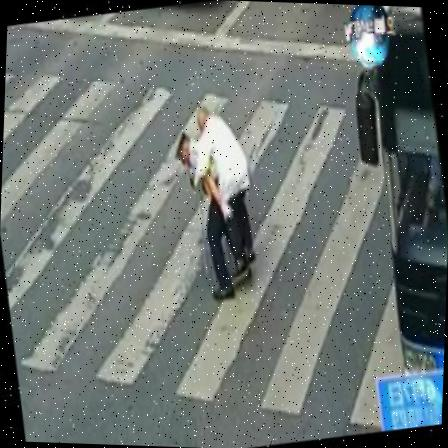silver: (182, 98, 269, 288)
